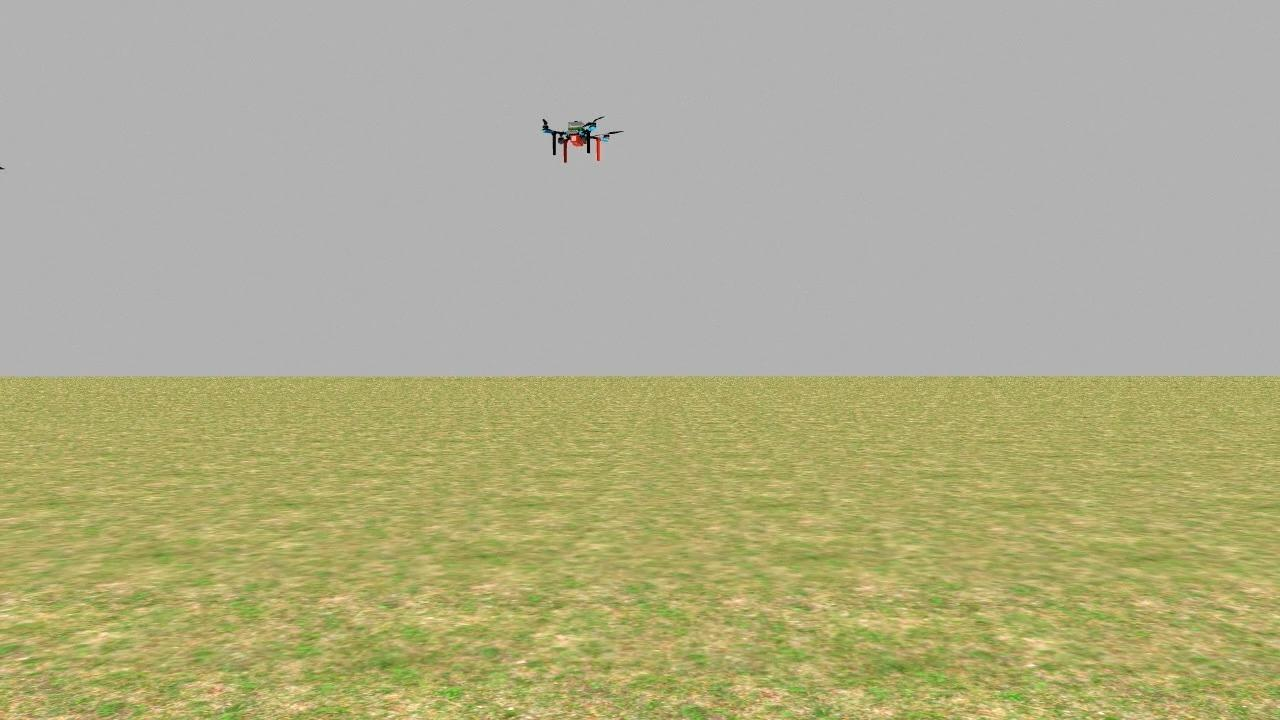UAV: (532, 104, 618, 172)
